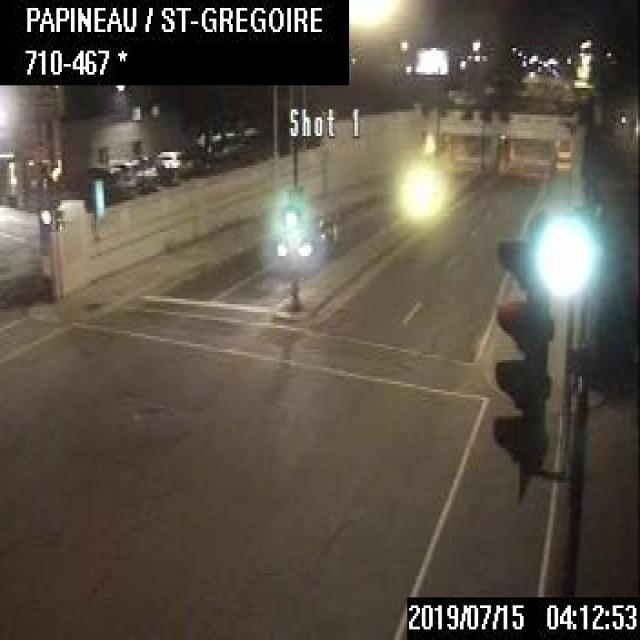vehicle: (272, 208, 348, 261), (155, 145, 195, 175)
